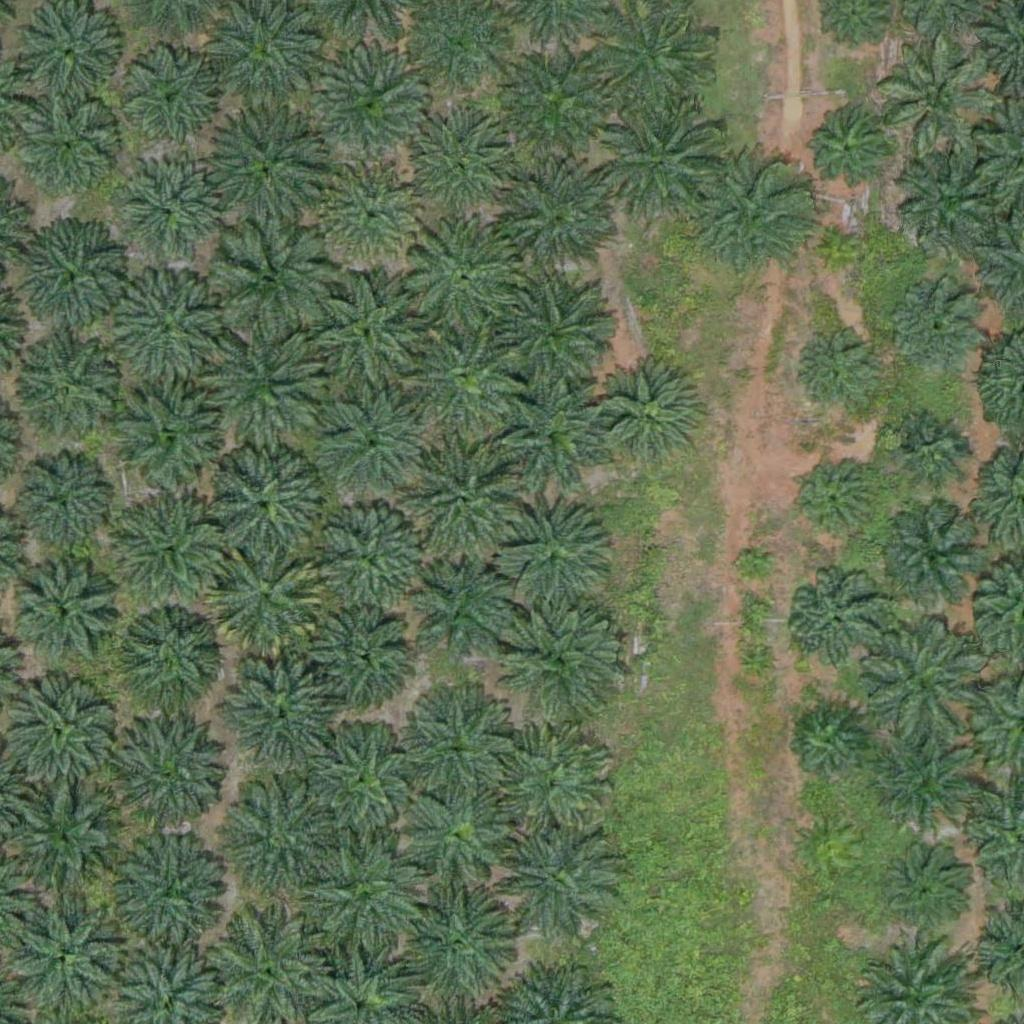Kelapa_Sawit: (501, 47, 626, 173), (591, 3, 716, 129), (593, 96, 718, 222), (490, 274, 615, 400), (496, 495, 621, 621), (495, 591, 620, 717), (397, 443, 522, 569), (404, 315, 529, 441), (396, 218, 521, 344), (301, 275, 426, 401), (199, 447, 324, 573), (193, 326, 318, 452), (217, 222, 342, 348), (206, 105, 331, 231), (108, 374, 233, 500), (857, 617, 982, 743), (396, 683, 521, 809), (303, 719, 428, 845), (490, 721, 615, 847), (108, 711, 233, 837), (111, 829, 236, 955), (211, 779, 336, 905), (216, 651, 341, 777), (300, 842, 425, 968), (392, 883, 517, 1009), (494, 821, 619, 947), (693, 150, 818, 275), (206, 544, 331, 669), (108, 486, 233, 611), (7, 891, 132, 1016), (7, 779, 132, 904), (318, 53, 431, 167), (314, 157, 427, 271), (880, 40, 993, 153), (593, 363, 706, 476), (403, 561, 516, 674), (317, 387, 430, 500), (315, 501, 428, 614), (499, 377, 611, 491), (897, 149, 1009, 262), (499, 162, 611, 275), (406, 105, 518, 218), (117, 154, 229, 267), (112, 276, 224, 389), (14, 222, 126, 335), (871, 727, 983, 840), (18, 4, 118, 105), (122, 54, 222, 155), (890, 278, 990, 379), (882, 509, 982, 610), (310, 602, 410, 703), (120, 602, 220, 703), (15, 562, 115, 663), (7, 455, 107, 556), (17, 338, 117, 439), (15, 97, 115, 198), (10, 685, 110, 786), (786, 572, 886, 672), (408, 791, 508, 891), (795, 330, 883, 418), (793, 458, 881, 546), (805, 106, 893, 194), (883, 841, 970, 929), (792, 706, 867, 782), (894, 413, 969, 488), (828, 229, 866, 267), (736, 549, 773, 587)
